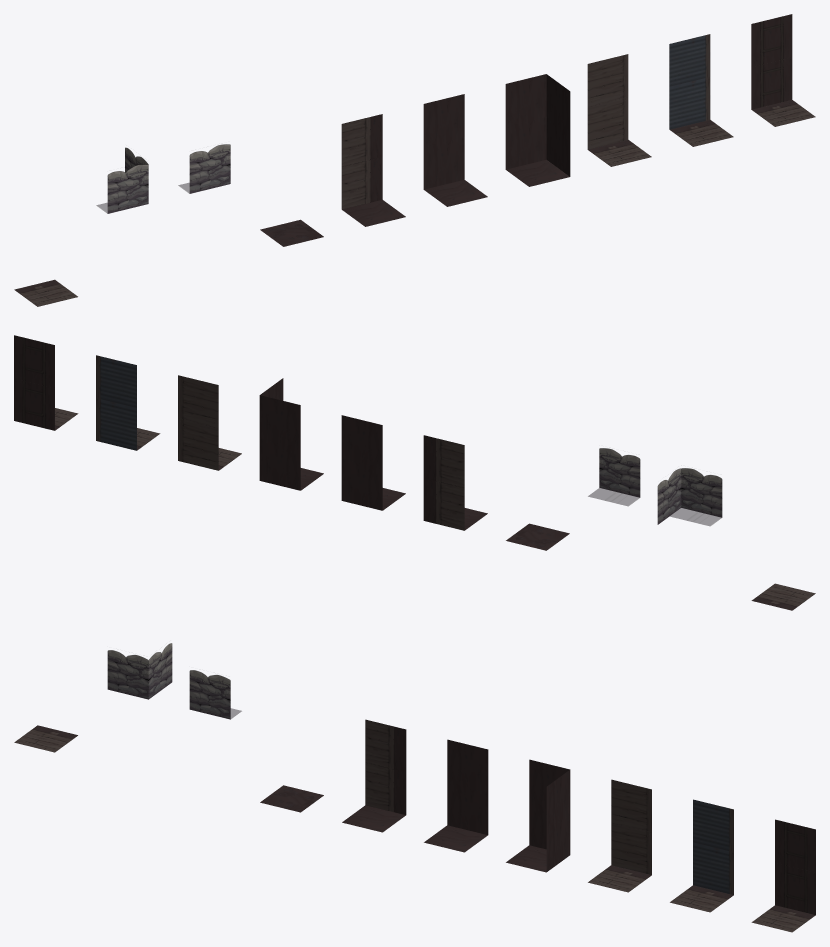
The model's file is GameTileset.glb.
3 views of the same model, one above another, from view 1: azimuth 30°, elevation 25°; view 2: azimuth 150°, elevation 25°; view 3: azimuth 330°, elevation 25° (orthographic).
Visible parts, largest first — view 1: plane3-col, plane1-col, plane2-col, wall1-col, wallsmth-col, wall2-col, sandbagcorner-col, sandbags-col, floor-col, floor2-col; view 2: plane3-col, plane2-col, plane1-col, wallsmth-col, wall1-col, wall2-col, sandbagcorner-col, sandbags-col, floor-col, floor2-col; view 3: plane1-col, plane2-col, plane3-col, wallsmth-col, wall1-col, wall2-col, sandbagcorner-col, sandbags-col, floor2-col, floor-col.
Part boxes in pixels (bbox=[...]): plane3-col: bbox=[505, 74, 570, 186]; plane1-col: bbox=[341, 114, 405, 226]; plane2-col: bbox=[423, 94, 487, 206]; wall1-col: bbox=[669, 34, 733, 146]; wallsmth-col: bbox=[751, 14, 815, 126]; wall2-col: bbox=[587, 54, 651, 166]; sandbagcorner-col: bbox=[96, 147, 148, 213]; sandbags-col: bbox=[178, 144, 230, 193]; floor-col: bbox=[260, 219, 323, 246]; floor2-col: bbox=[14, 279, 77, 306]; plane3-col: bbox=[259, 378, 323, 490]; plane2-col: bbox=[341, 415, 405, 510]; plane1-col: bbox=[423, 435, 487, 530]; wallsmth-col: bbox=[14, 335, 78, 430]; wall1-col: bbox=[96, 355, 160, 450]; wall2-col: bbox=[178, 375, 241, 470]; sandbagcorner-col: bbox=[657, 468, 722, 526]; sandbags-col: bbox=[588, 448, 640, 506]; floor-col: bbox=[506, 523, 569, 550]; floor2-col: bbox=[751, 583, 815, 610]; plane1-col: bbox=[342, 719, 406, 832]; plane2-col: bbox=[424, 739, 488, 852]; plane3-col: bbox=[506, 759, 570, 872]; wallsmth-col: bbox=[751, 819, 815, 932]; wall1-col: bbox=[670, 799, 733, 912]; wall2-col: bbox=[588, 779, 651, 892]; sandbagcorner-col: bbox=[107, 643, 172, 699]; sandbags-col: bbox=[189, 670, 241, 719]; floor2-col: bbox=[14, 725, 77, 752]; floor-col: bbox=[260, 785, 323, 812].
Size of the model in its own units: 19 by 2.5 by 1.5.
Materials: 9 (9 with a texture image).
